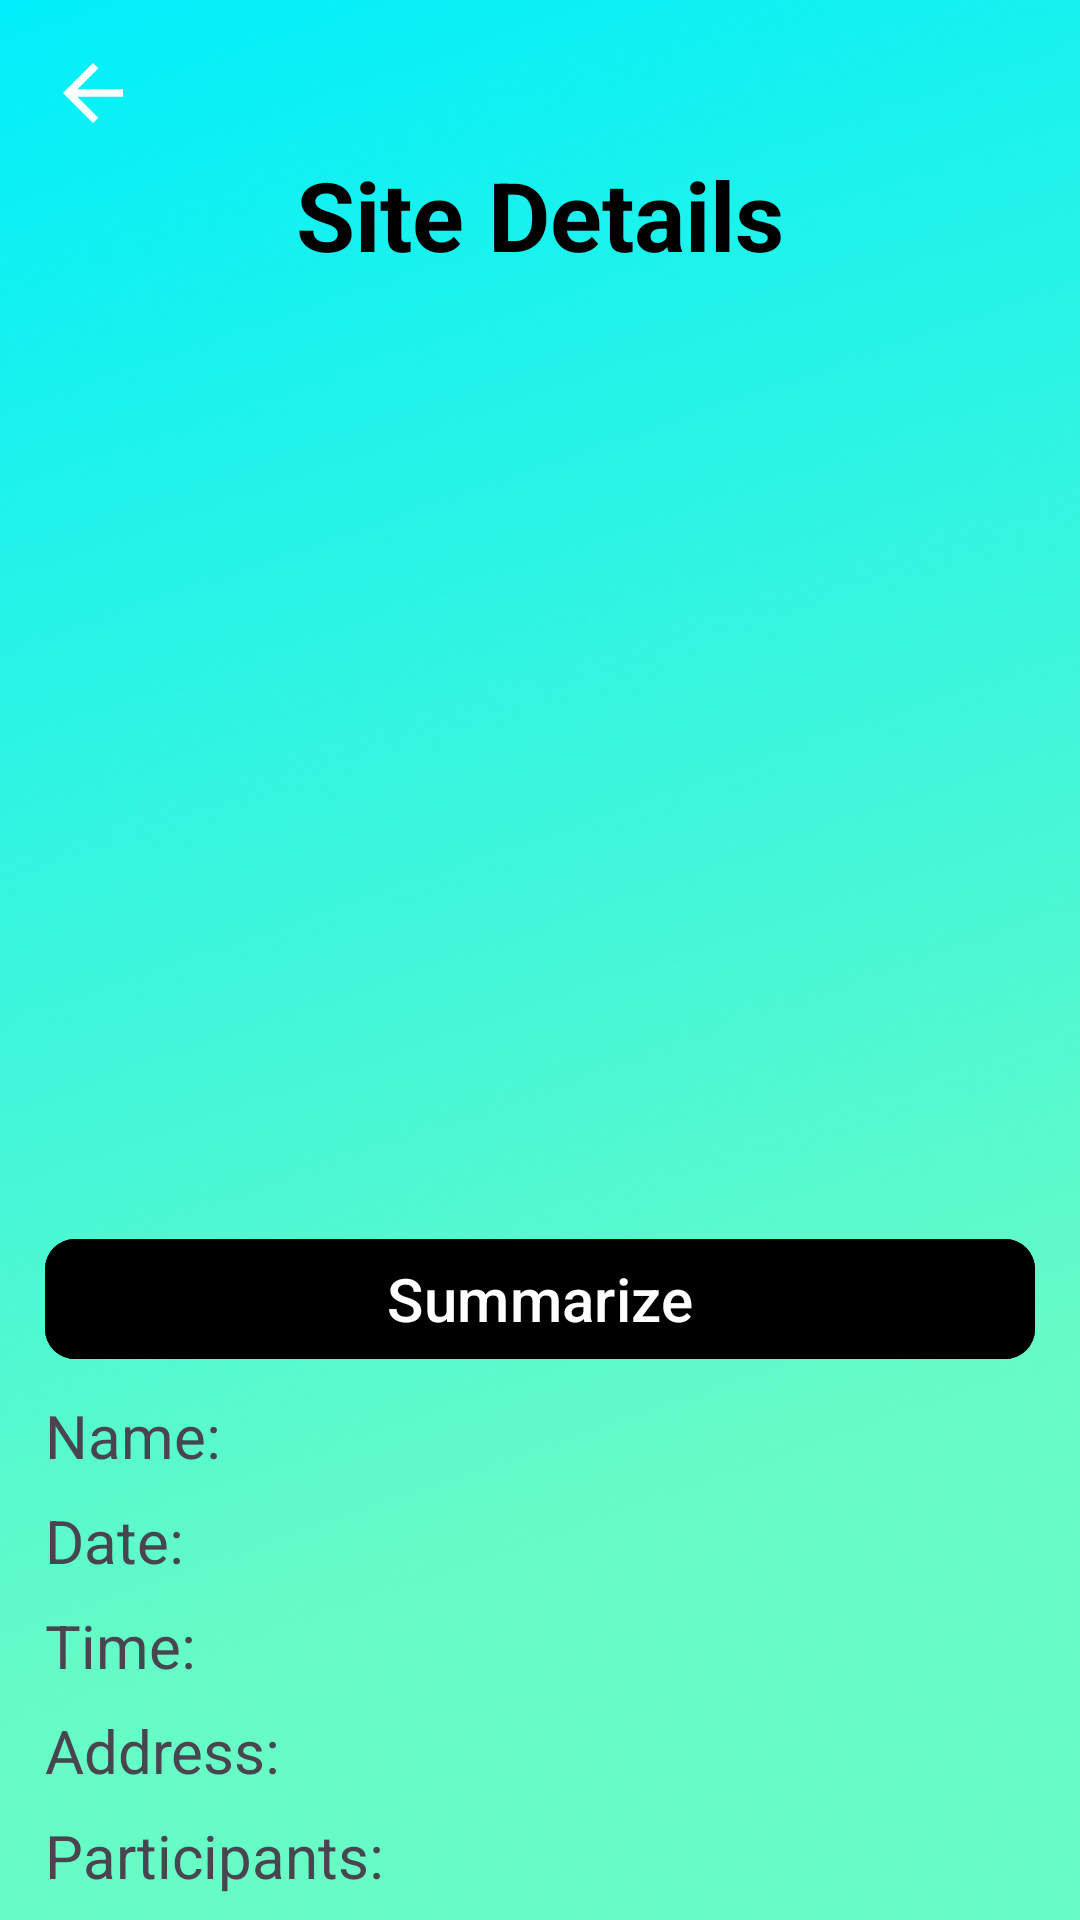

Named icons in this screenshot (1080*1920) and their centers, (x=x, y=y):
back: (x=93, y=93)
